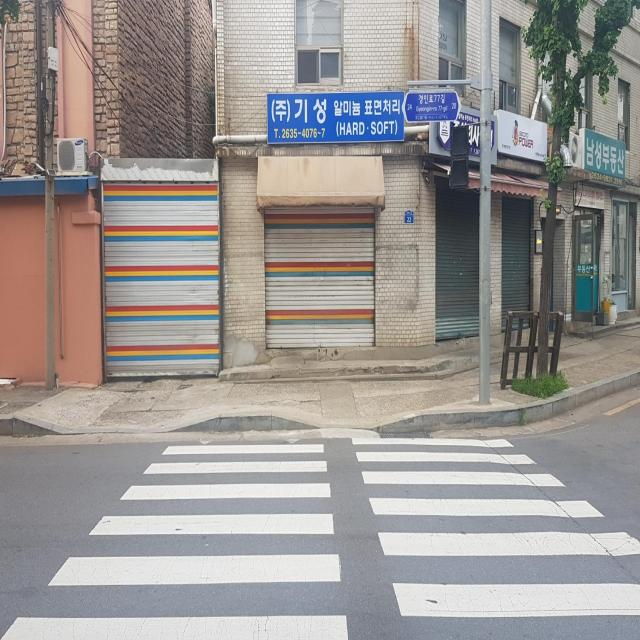횡단보도: (0, 432, 640, 640)
